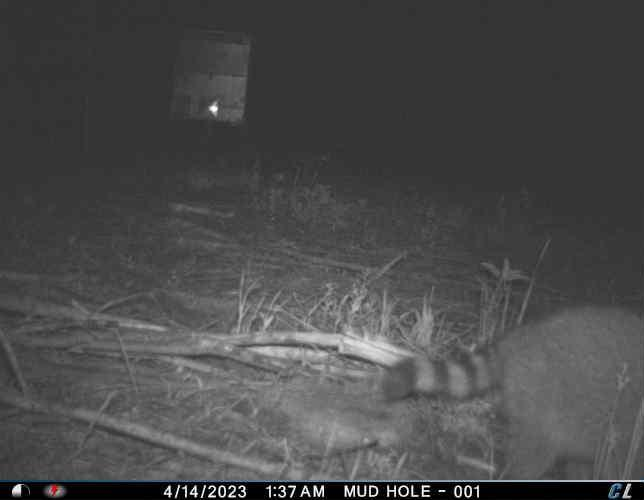Raccoon: (379, 299, 644, 481)
